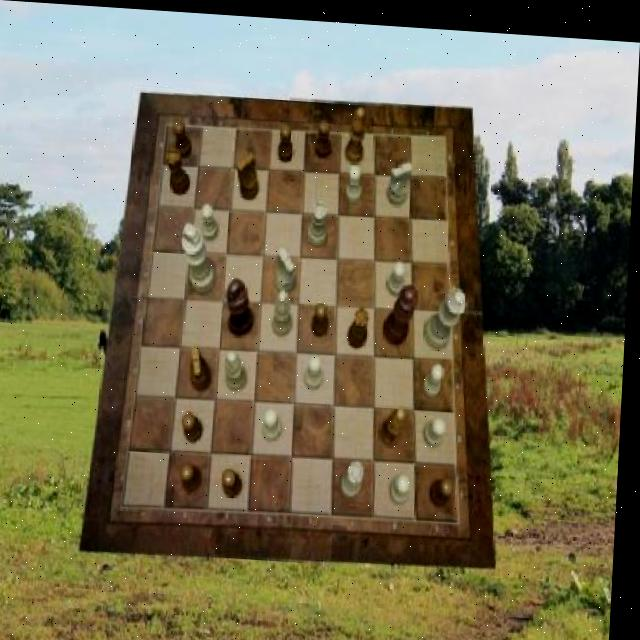bishop: (346, 102, 367, 160), (385, 401, 411, 442)
black-bishop: (227, 274, 257, 333)
black-king: (236, 148, 260, 197), (193, 342, 217, 388)
black-knight: (434, 470, 459, 502), (174, 117, 194, 157), (186, 409, 208, 441), (315, 115, 333, 154), (278, 121, 296, 160), (183, 460, 206, 490), (313, 297, 332, 333), (226, 467, 248, 495)
black-pawn: (386, 278, 422, 341)
black-queen: (165, 146, 193, 193), (350, 302, 371, 345)
black-rook: (226, 347, 251, 388), (275, 286, 296, 333)
white-bishop: (182, 221, 220, 292)
white-king: (387, 156, 413, 201), (277, 245, 298, 292)
white-knight: (425, 355, 446, 391), (347, 160, 365, 200), (201, 201, 220, 237), (309, 351, 328, 386), (427, 413, 450, 441), (393, 468, 414, 498), (389, 255, 407, 290), (267, 406, 285, 439)
white-pawn: (427, 280, 470, 344)
white-queen: (344, 456, 368, 493), (310, 195, 329, 241)
